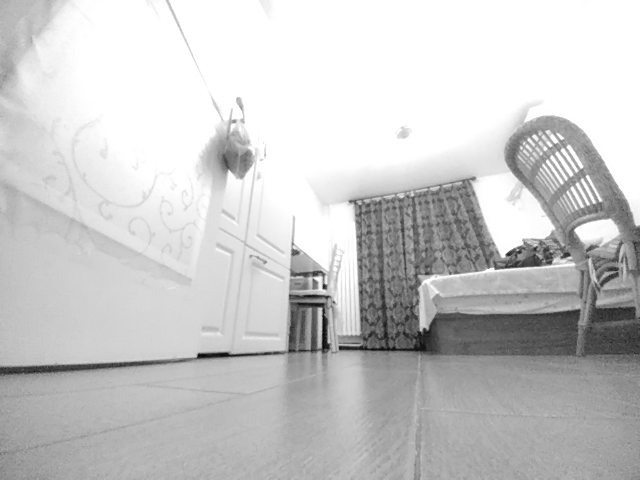curtain: (352, 188, 421, 352)
